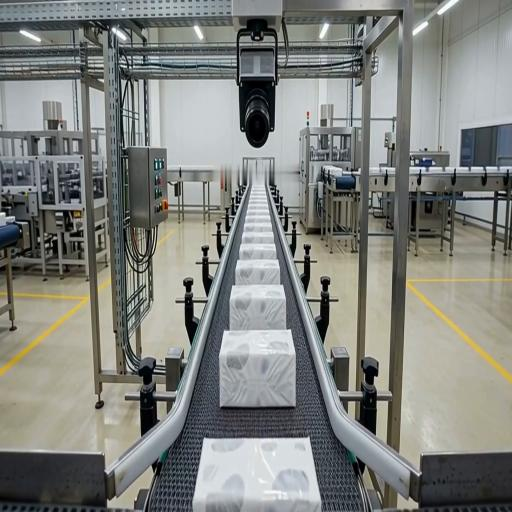good: (193, 438, 321, 511), (219, 330, 295, 407), (230, 285, 286, 330), (235, 260, 280, 285), (239, 244, 276, 260), (242, 232, 274, 243), (244, 220, 272, 232), (247, 205, 269, 216), (246, 212, 270, 222), (249, 197, 267, 205)
